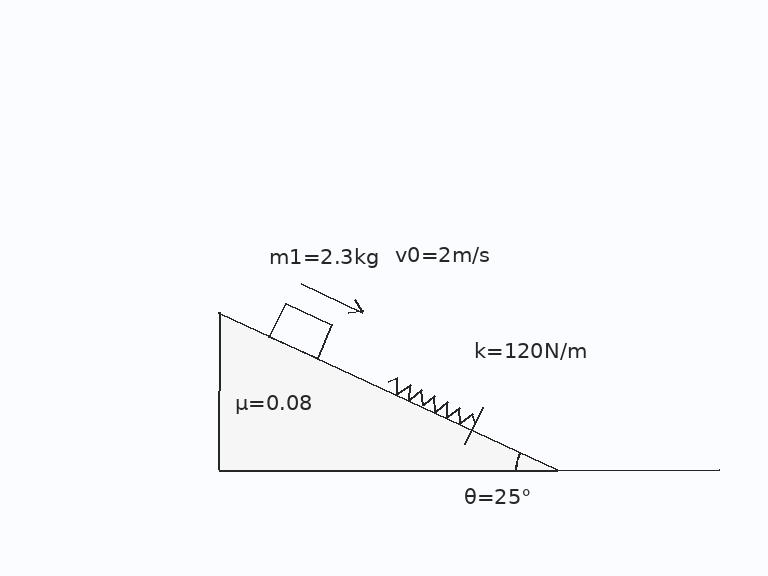block: (268, 301, 334, 360)
ramp: (217, 311, 558, 472)
spring: (386, 376, 478, 425)
